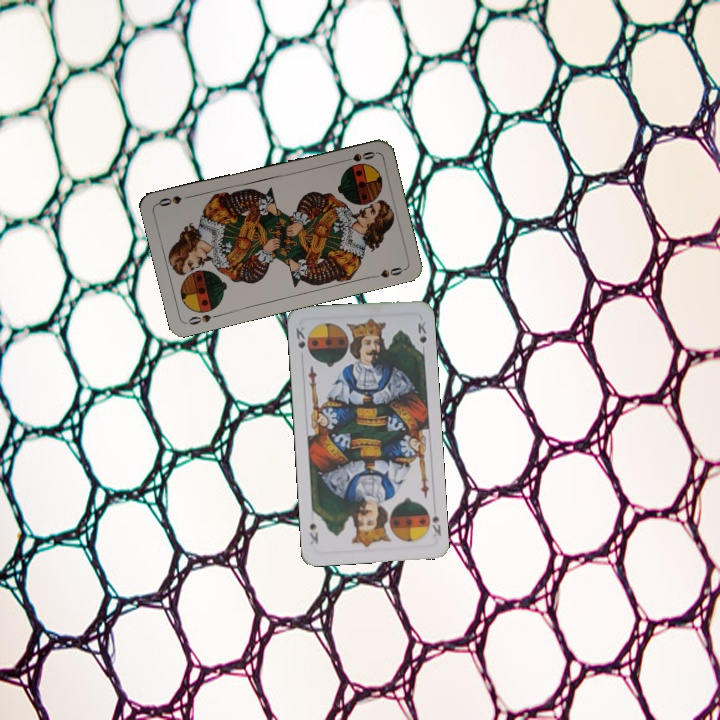SK: (292, 322, 308, 351), (428, 510, 444, 539)
SO: (337, 147, 378, 165), (184, 310, 223, 327)
